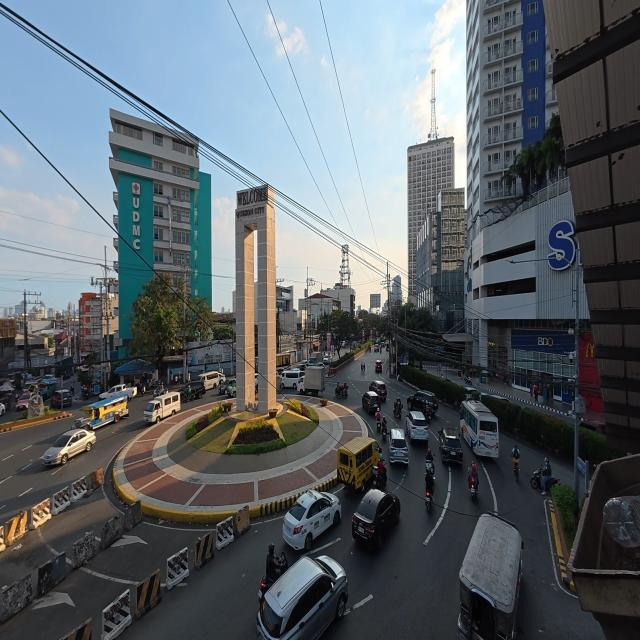car: (282, 486, 343, 550), (350, 488, 399, 552), (43, 427, 97, 468)
vans: (279, 369, 304, 392)
